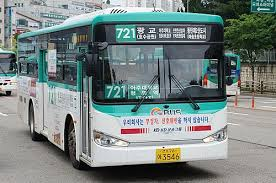bnum: (115, 25, 136, 40)
